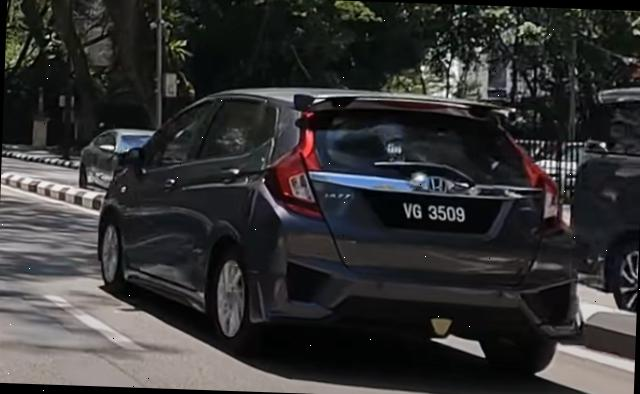License_Plate: (377, 197, 492, 233)
car: (93, 81, 593, 378)
